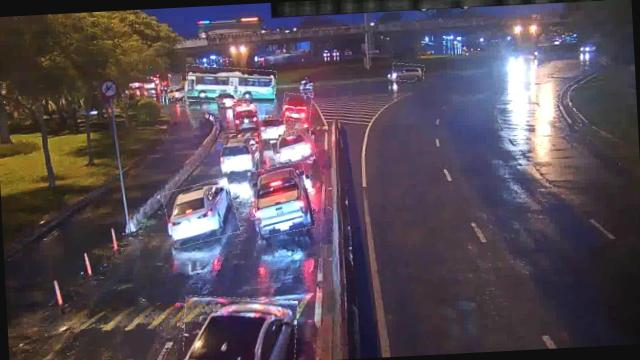Bus: (184, 62, 276, 106)
Car: (180, 292, 298, 360), (163, 180, 238, 246), (248, 163, 314, 236), (270, 128, 316, 166), (216, 138, 258, 175), (282, 92, 312, 120), (257, 115, 285, 140), (391, 62, 424, 82), (233, 103, 258, 129), (167, 85, 190, 103)
